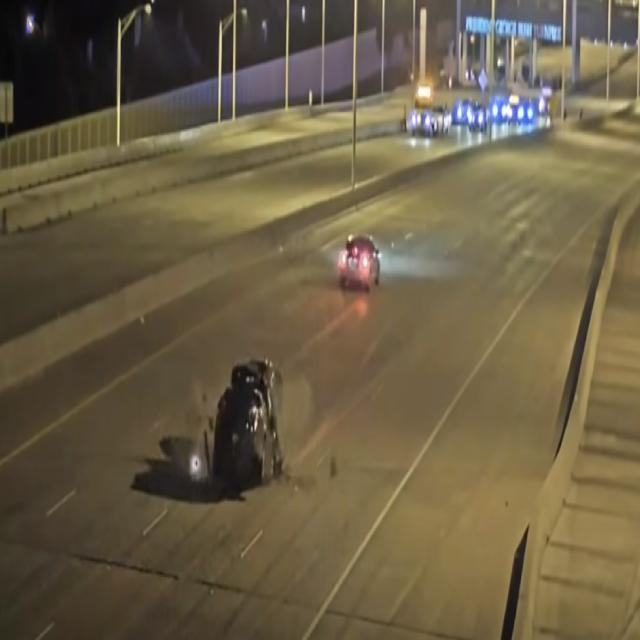accident: (206, 346, 308, 499)
